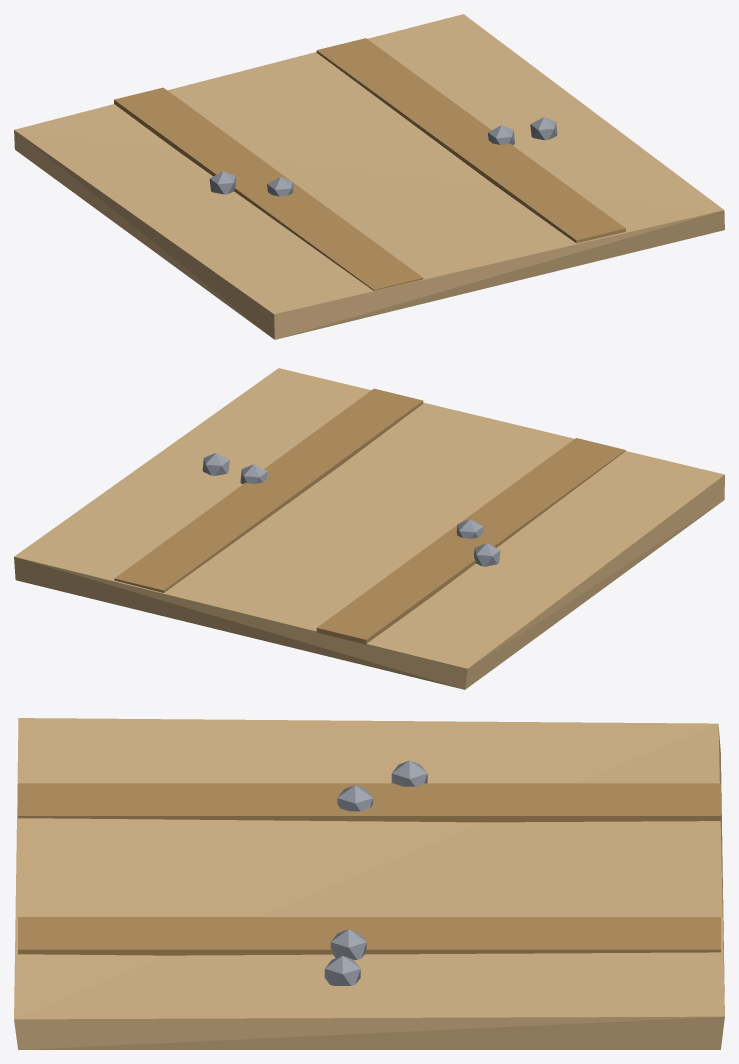
File: SM_Road_Straight.fbx
3 renders of one model, top to bottom at view 1: azimuth 30°, elevation 25°; view 2: azimuth 150°, elevation 25°; view 3: azimuth 270°, elevation 25°, orthographic. The views are drawn at different scales.
Parts seen in each view (by area): view 1: SM_Road_Straight; view 2: SM_Road_Straight; view 3: SM_Road_Straight.
Part boxes in pixels (left/top/right/bottom): SM_Road_Straight: left=14, top=14, right=724, bottom=339; SM_Road_Straight: left=14, top=368, right=724, bottom=689; SM_Road_Straight: left=14, top=718, right=724, bottom=1049.
Size of the model in its own units: 2.01 by 0.17 by 2.02.
